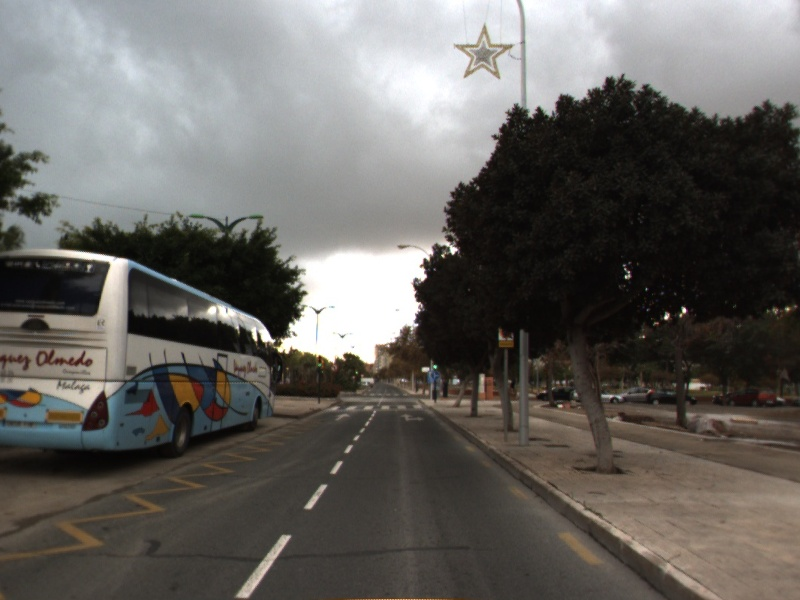STRAIGHT: (333, 411, 353, 423)
STRAIGHT_RIGHT: (398, 412, 427, 424)
